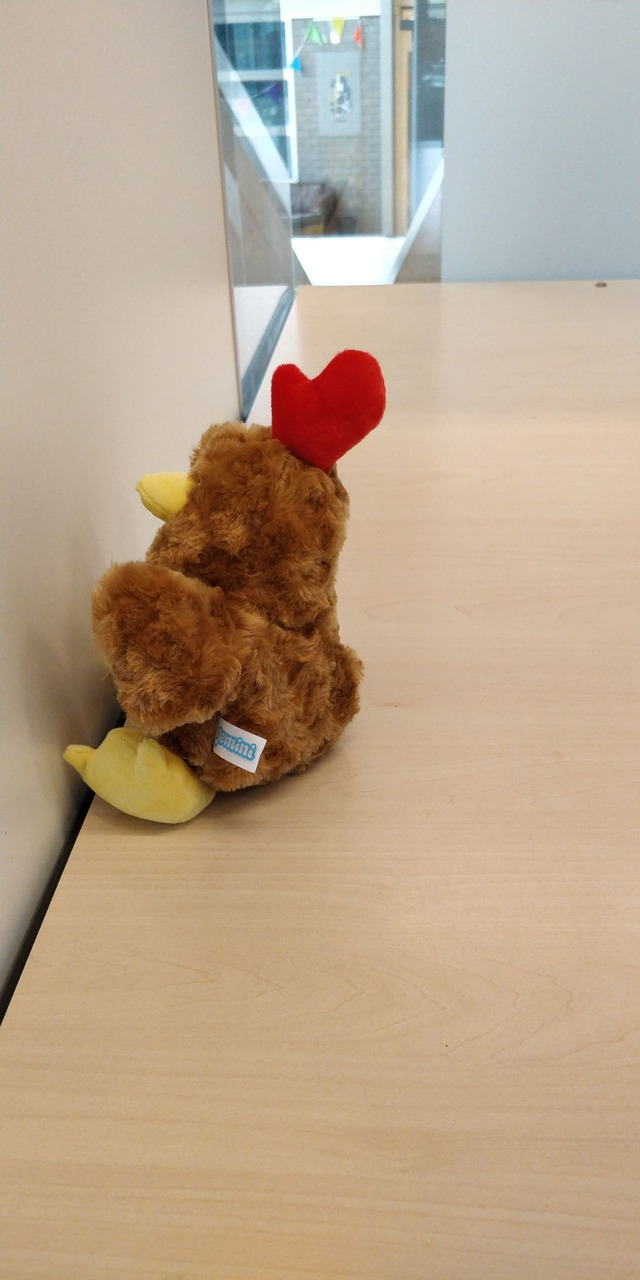fakeChicken: (58, 348, 389, 827)
